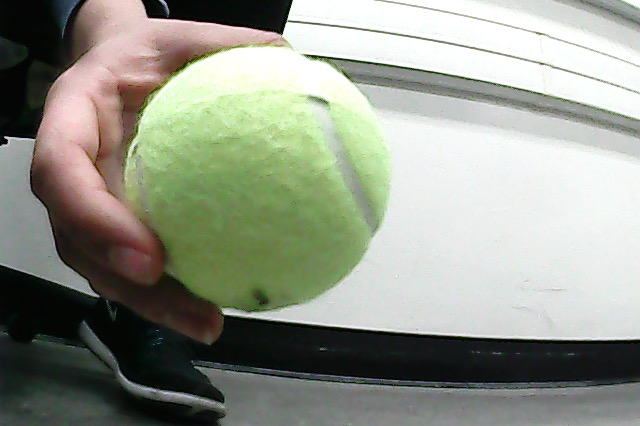ball: (124, 47, 390, 313)
